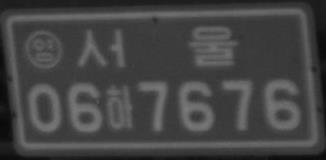0: (25, 81, 63, 134)
6: (262, 77, 301, 131), (177, 79, 215, 133), (67, 81, 103, 134)
7: (221, 78, 255, 130), (137, 79, 168, 131)
서울_D: (76, 24, 238, 67)
영: (25, 29, 63, 69)
하: (104, 83, 132, 131)
